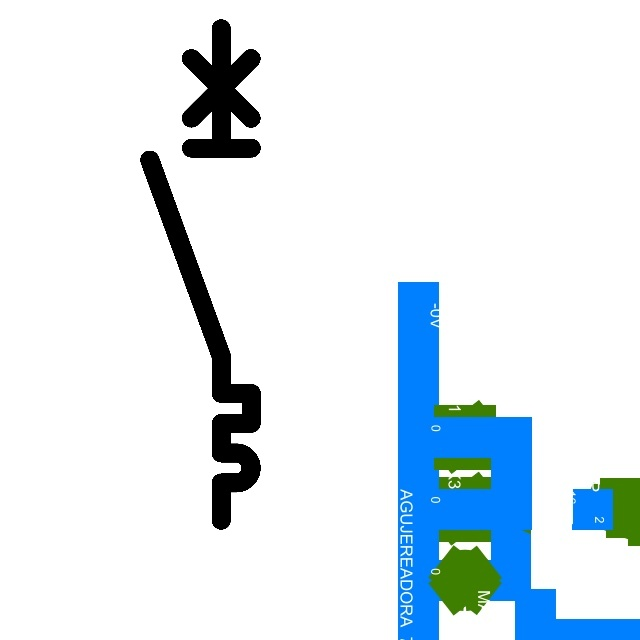interruptor_termomagnetico: (137, 16, 264, 533)
